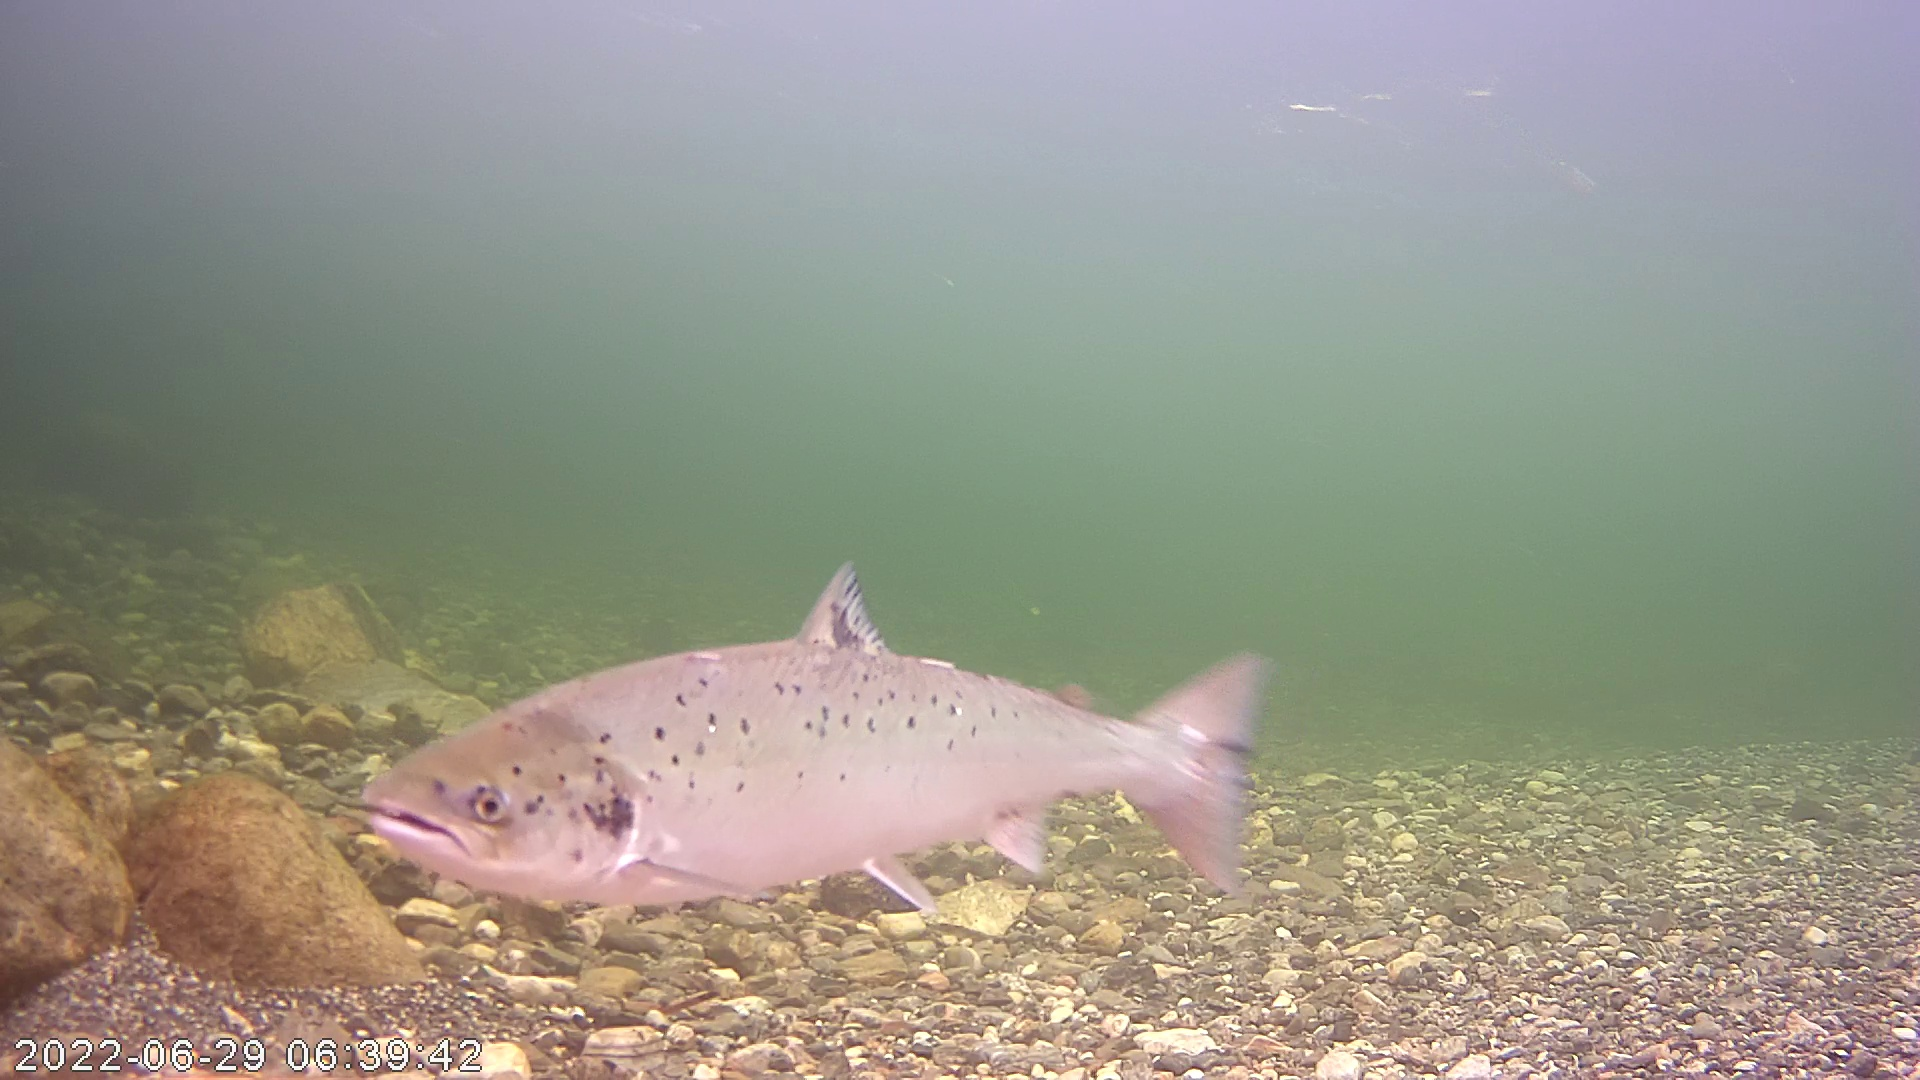salmon: (372, 516, 1280, 928)
